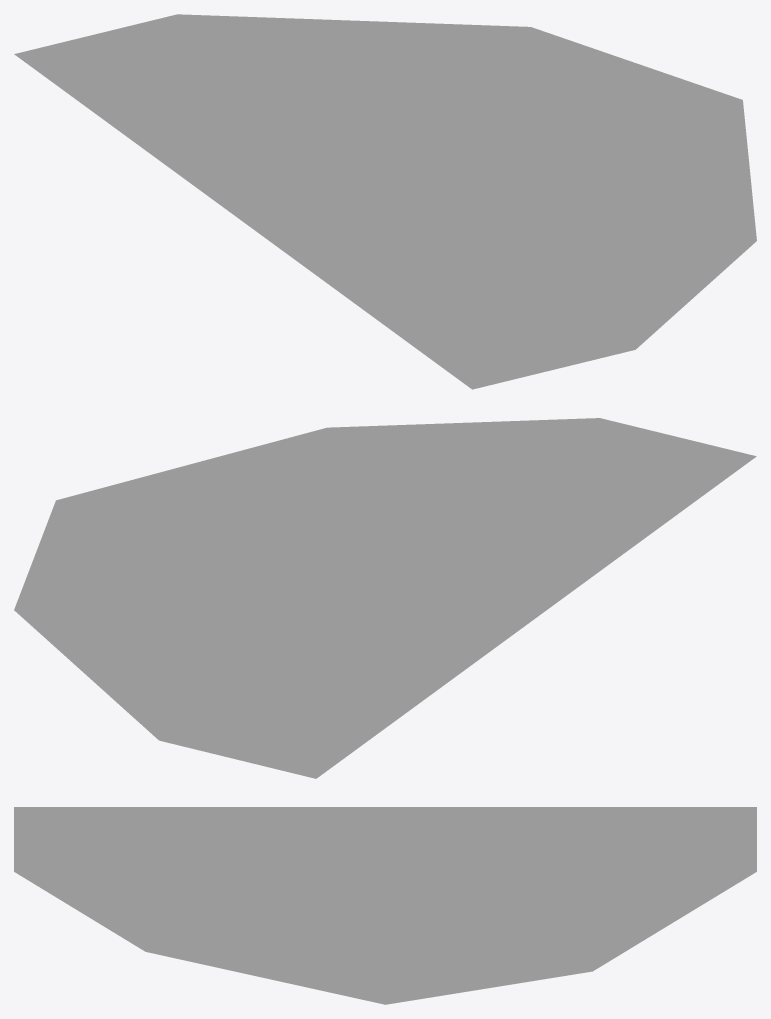
3 renders of one model, top to bottom at view 1: azimuth 30°, elevation 25°; view 2: azimuth 150°, elevation 25°; view 3: azimuth 270°, elevation 25°, orthographic. The views are drawn at different scales.
Visible parts, largest first — view 1: Joint_0_Object_0; view 2: Joint_0_Object_0; view 3: Joint_0_Object_0.
Part boxes in pixels (box(x1,y1,x2,y2)): Joint_0_Object_0: box(14, 14, 756, 389); Joint_0_Object_0: box(14, 418, 756, 778); Joint_0_Object_0: box(14, 807, 756, 1004).
Size of the model in its own units: 630 by 0 by 1000.
